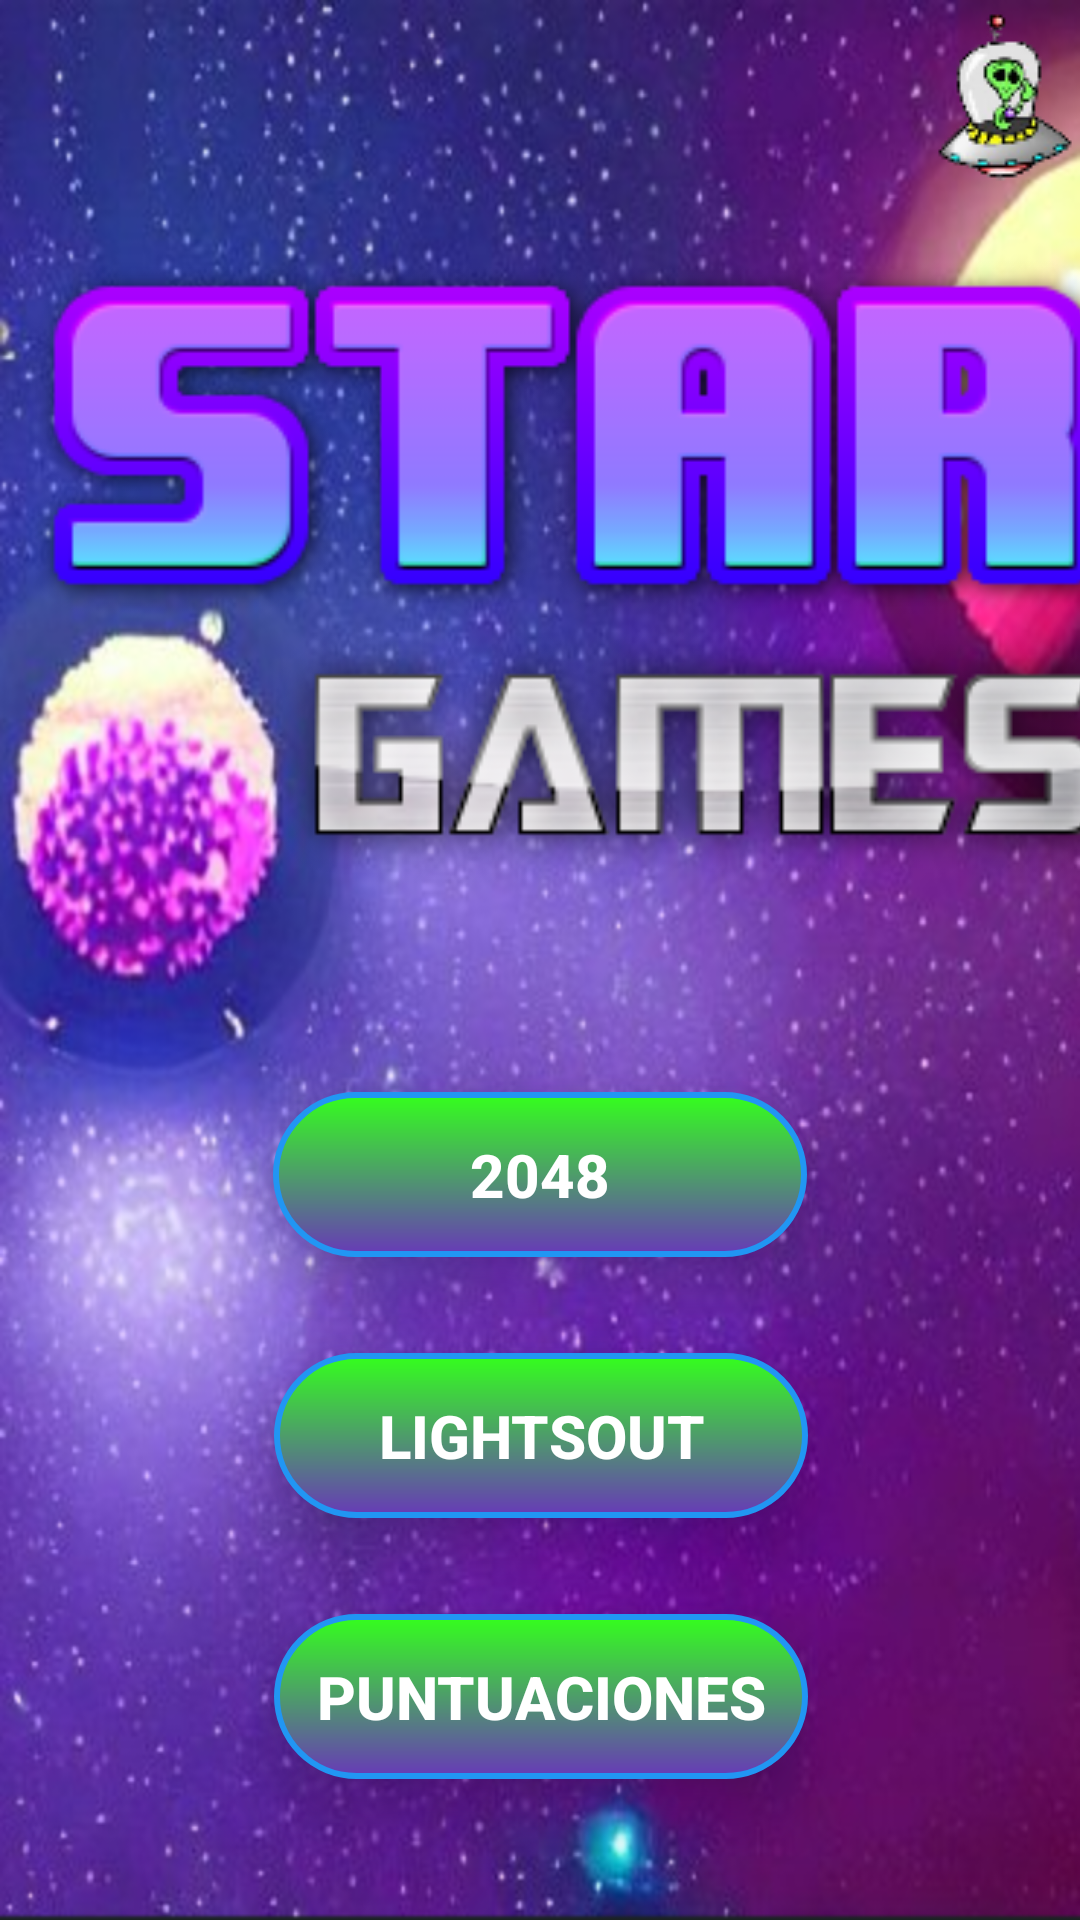

Named icons in this screenshot (1080px x 1920px) and their centers, (x=x, y=y):
alien: (x=1005, y=96)
